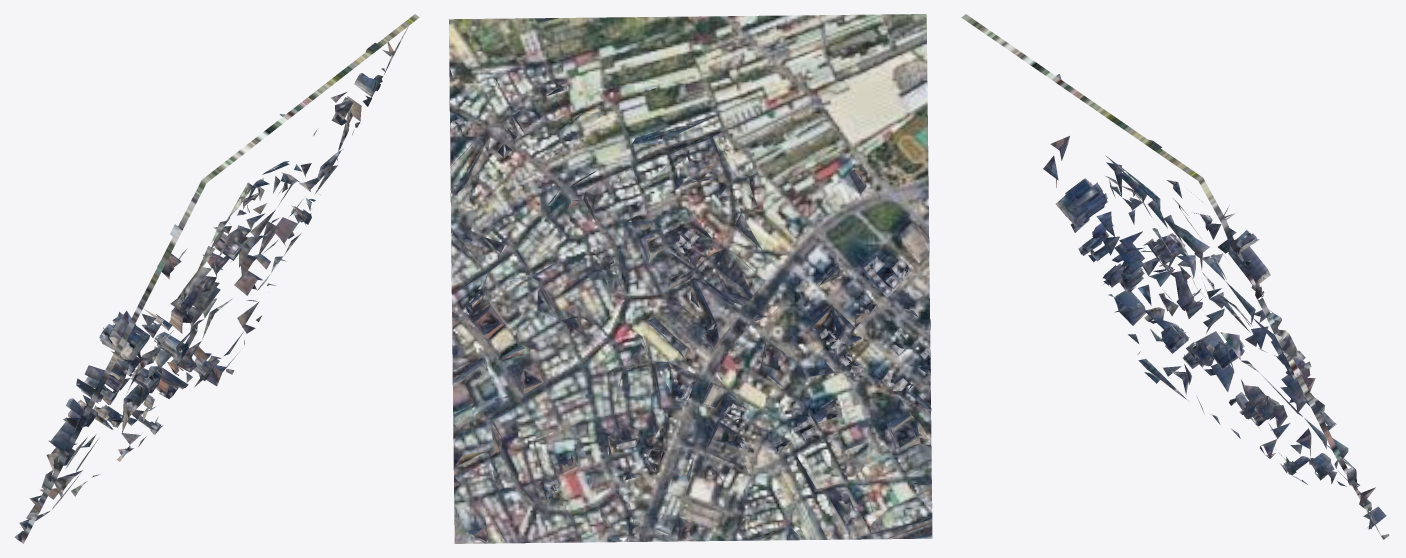
3 views of the same model, side by side, from view 1: azimuth 30°, elevation 25°; view 2: azimuth 150°, elevation 25°; view 3: azimuth 270°, elevation 25° (orthographic). The views are drawn at different scales.
Bounding box in the file's own units: 1229 × 1113 × 1051.
Materials: 2 (2 with a texture image).
